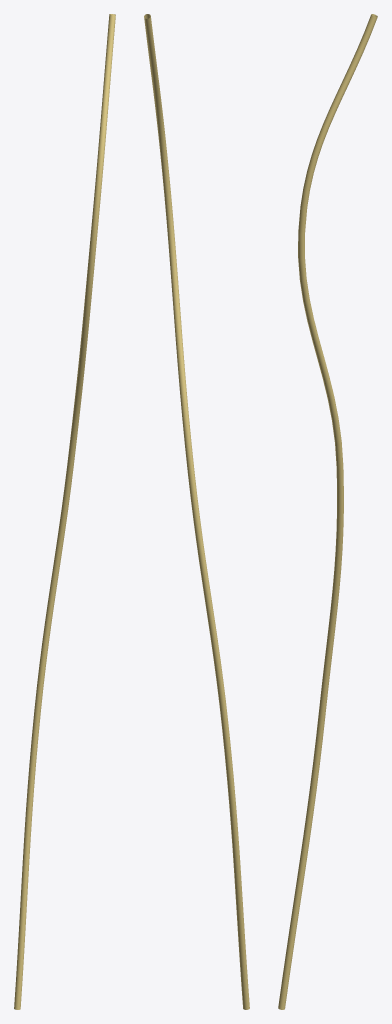
The picture shows the model from 3 angles, left to right: view 1: azimuth 30°, elevation 25°; view 2: azimuth 210°, elevation 25°; view 3: azimuth 330°, elevation 25°; orthographic projection. The views are drawn at different scales.
Visible parts, largest first — view 1: ZA_449ef87027877fba; view 2: ZA_449ef87027877fba; view 3: ZA_449ef87027877fba.
Boxes of the visible parts, x1,y1,x2,y2 form: ZA_449ef87027877fba: (14, 14, 115, 1009); ZA_449ef87027877fba: (144, 14, 249, 1009); ZA_449ef87027877fba: (278, 14, 377, 1009).
Bounding box in the file's own units: 0.0167 × 0.159 × 0.0121.
